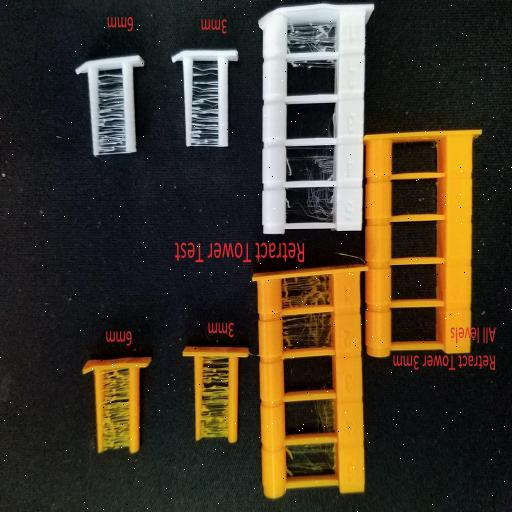stringing: (192, 63, 217, 149), (100, 71, 124, 156), (202, 360, 227, 441), (103, 374, 128, 452), (282, 315, 330, 348), (287, 20, 336, 52), (286, 445, 335, 476), (281, 277, 328, 306), (305, 189, 333, 219), (288, 55, 336, 72), (303, 150, 334, 175), (313, 401, 335, 432)
